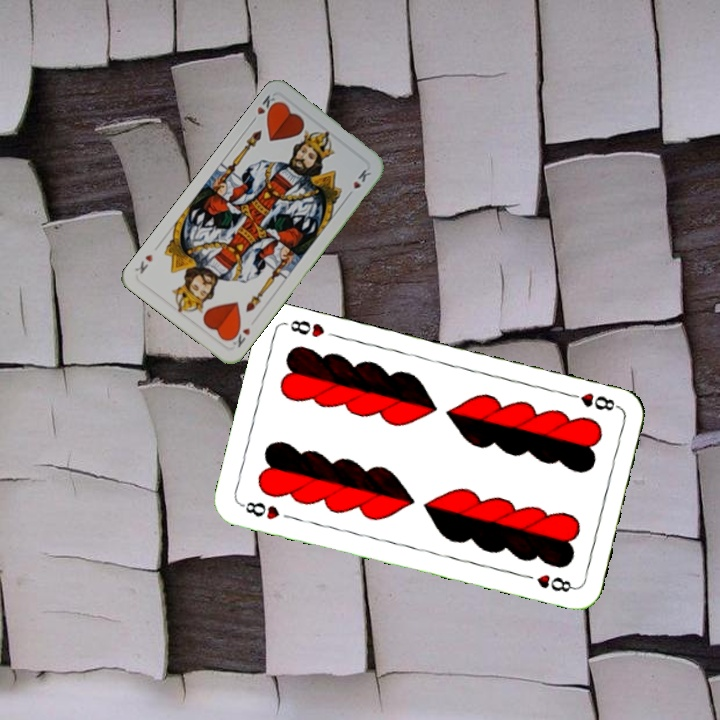H8: (563, 389, 622, 414), (237, 497, 283, 522)
HK: (247, 91, 281, 126), (225, 322, 253, 350)
